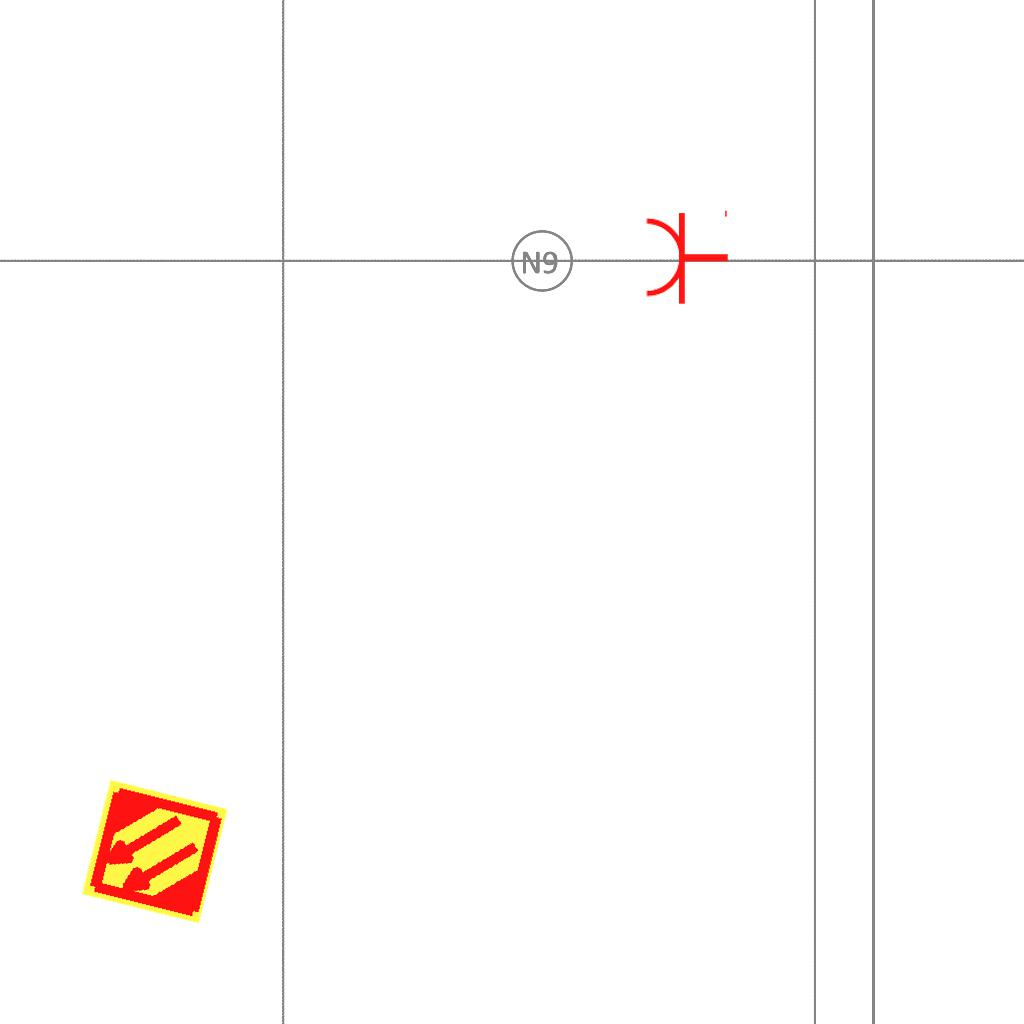ASR_Ansaugrauchmelder: (78, 775, 231, 928)
Schukosteckdose_einfach: (643, 206, 730, 306)
